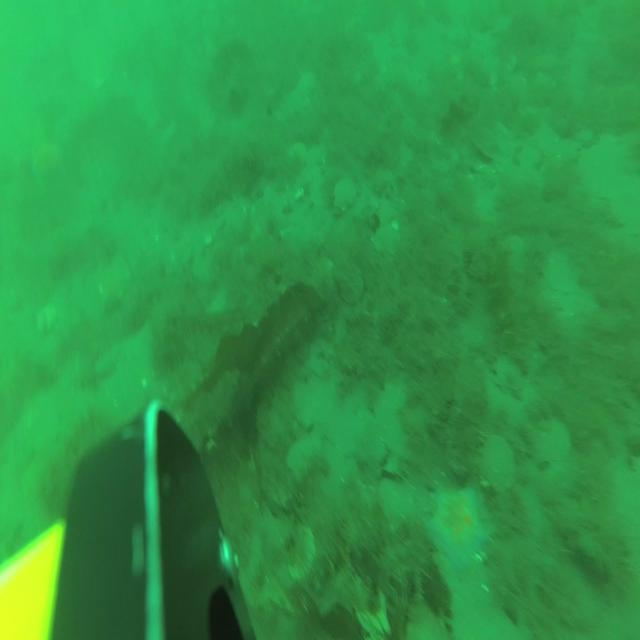scallop: (477, 430, 517, 491), (533, 412, 570, 474), (286, 521, 318, 583), (490, 348, 526, 398), (333, 172, 358, 216)
starfish: (427, 480, 494, 583), (19, 125, 64, 188)
